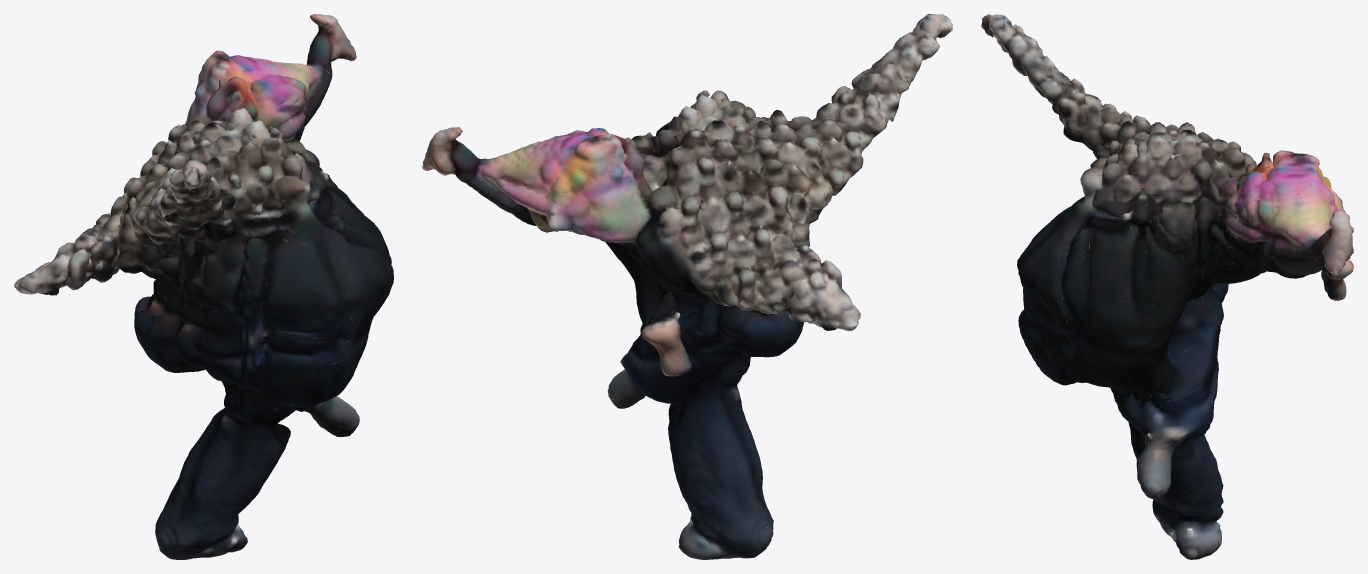
Rendered from chimeras.glb.
The picture shows the model from 3 angles, left to right: view 1: azimuth 30°, elevation 25°; view 2: azimuth 150°, elevation 25°; view 3: azimuth 270°, elevation 25°; orthographic projection. The views are drawn at different scales.
Parts seen in each view (by area): view 1: tmpo3ahm2z4; view 2: tmpo3ahm2z4; view 3: tmpo3ahm2z4.
Part boxes in pixels (x1,y1,x2,y2): tmpo3ahm2z4: (14,14,393,559); tmpo3ahm2z4: (422,14,952,559); tmpo3ahm2z4: (981,14,1353,559).
Bounding box in the file's own units: 1.59 × 1.93 × 1.37.
1 material, 1 textured.
